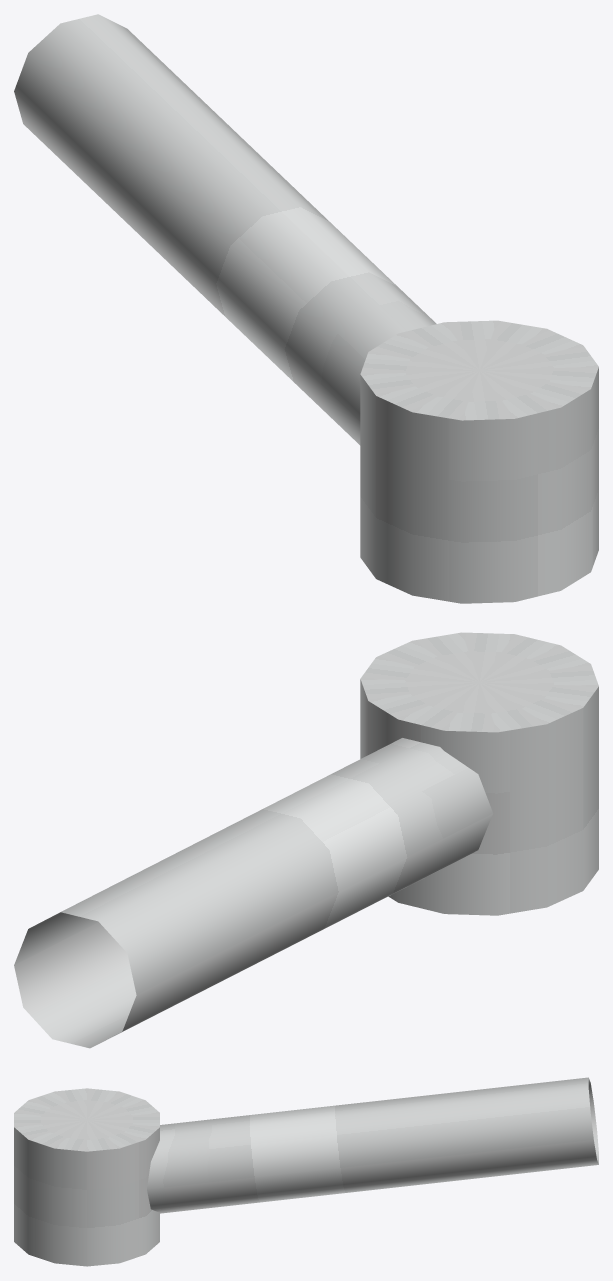
Rendered from trusssignalarm_level10_c1_pedestal.obj.
3 renders of one model, top to bottom at view 1: azimuth 30°, elevation 25°; view 2: azimuth 150°, elevation 25°; view 3: azimuth 270°, elevation 25°, orthographic. The views are drawn at different scales.
Visible parts, largest first — view 1: trusssignalarm_level10_c1_pedestal; view 2: trusssignalarm_level10_c1_pedestal; view 3: trusssignalarm_level10_c1_pedestal.
Part boxes in pixels (x1,y1,x2,y2): trusssignalarm_level10_c1_pedestal: [14, 14, 598, 603]; trusssignalarm_level10_c1_pedestal: [14, 632, 598, 1048]; trusssignalarm_level10_c1_pedestal: [14, 1077, 598, 1266].
Size of the model in its own units: 0.4438 by 0.4952 by 1.73.
